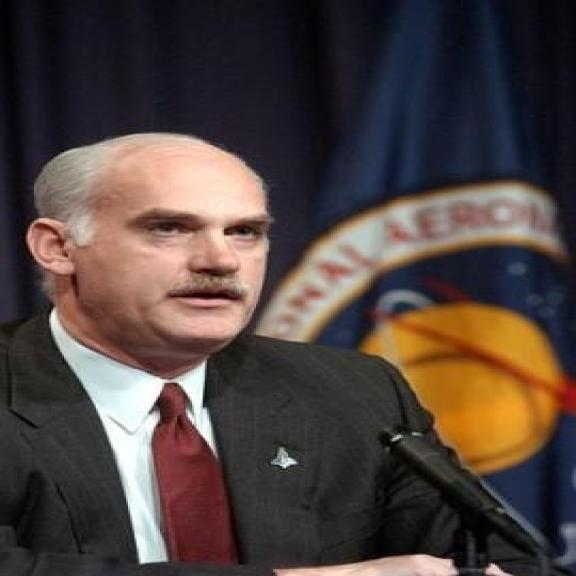face: (25, 142, 271, 358)
